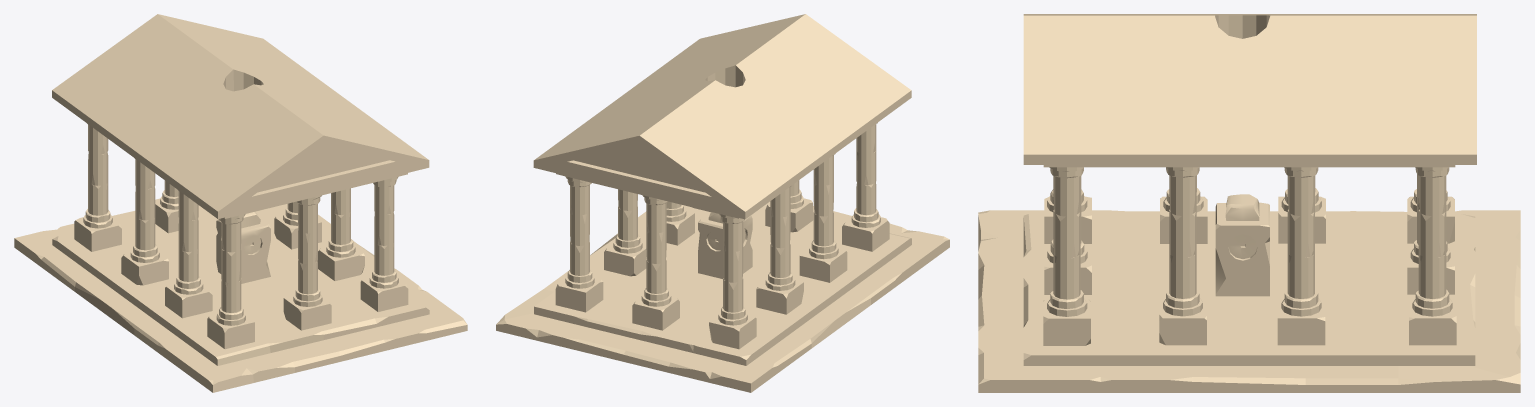
File: Temple.gltf
3 renders of one model, left to right at view 1: azimuth 30°, elevation 25°; view 2: azimuth 150°, elevation 25°; view 3: azimuth 270°, elevation 25°, orthographic. The views are drawn at different scales.
Visible parts, largest first — view 1: rooftop basement, stair up, stair down, Column.010, Column.009, Column, Column.002, Column.015, Column.003, Column.011, Pedestal, Column.014 (+1 smaller); view 2: rooftop basement, stair up, stair down, Column.014, Column.015, Column.013, Column.002, Column.009, Column.003, Column.007, Pedestal, Column.011 (+1 smaller); view 3: rooftop basement, stair up, stair down, Column.013, Column.007, Column.011, Column.010, Pedestal, Column, Column.014, Column.002, Column.003 (+2 smaller).
Part boxes in pixels (bbox=[...]): rooftop basement: bbox=[52, 14, 429, 218]; stair up: bbox=[52, 204, 429, 365]; stair down: bbox=[14, 211, 467, 392]; Column.010: bbox=[360, 176, 408, 311]; Column.009: bbox=[207, 214, 254, 349]; Column: bbox=[283, 195, 331, 330]; Column.002: bbox=[165, 190, 212, 318]; Column.015: bbox=[74, 123, 121, 251]; Column.003: bbox=[121, 158, 168, 285]; Column.011: bbox=[317, 188, 364, 280]; Pedestal: bbox=[216, 212, 270, 283]; Column.014: bbox=[155, 180, 178, 233]; rooftop basement: bbox=[533, 14, 911, 219]; stair up: bbox=[534, 203, 911, 365]; stair down: bbox=[496, 201, 949, 392]; Column.014: bbox=[632, 195, 679, 330]; Column.015: bbox=[709, 214, 756, 349]; Column.013: bbox=[555, 176, 603, 312]; Column.002: bbox=[799, 153, 847, 282]; Column.009: bbox=[842, 122, 889, 251]; Column.003: bbox=[756, 185, 803, 314]; Column.007: bbox=[604, 189, 646, 276]; Pedestal: bbox=[698, 212, 752, 278]; Column.011: bbox=[666, 201, 694, 245]; rooftop basement: bbox=[1023, 14, 1476, 167]; stair up: bbox=[1023, 214, 1475, 365]; stair down: bbox=[978, 210, 1520, 392]; Column.013: bbox=[1409, 167, 1456, 345]; Column.007: bbox=[1277, 167, 1325, 345]; Column.011: bbox=[1159, 167, 1206, 345]; Column.010: bbox=[1043, 167, 1090, 345]; Pedestal: bbox=[1215, 194, 1269, 296]; Column: bbox=[1044, 176, 1091, 294]; Column.014: bbox=[1407, 174, 1454, 294]; Column.002: bbox=[1160, 175, 1207, 243]; Column.003: bbox=[1278, 175, 1325, 243].
Bounding box in the file's own units: 14.72 × 11.83 × 19.88.
